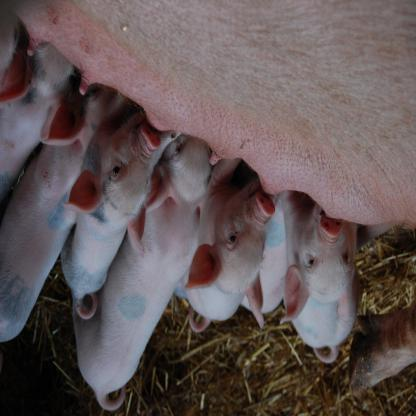boar: (0, 0, 416, 411)
